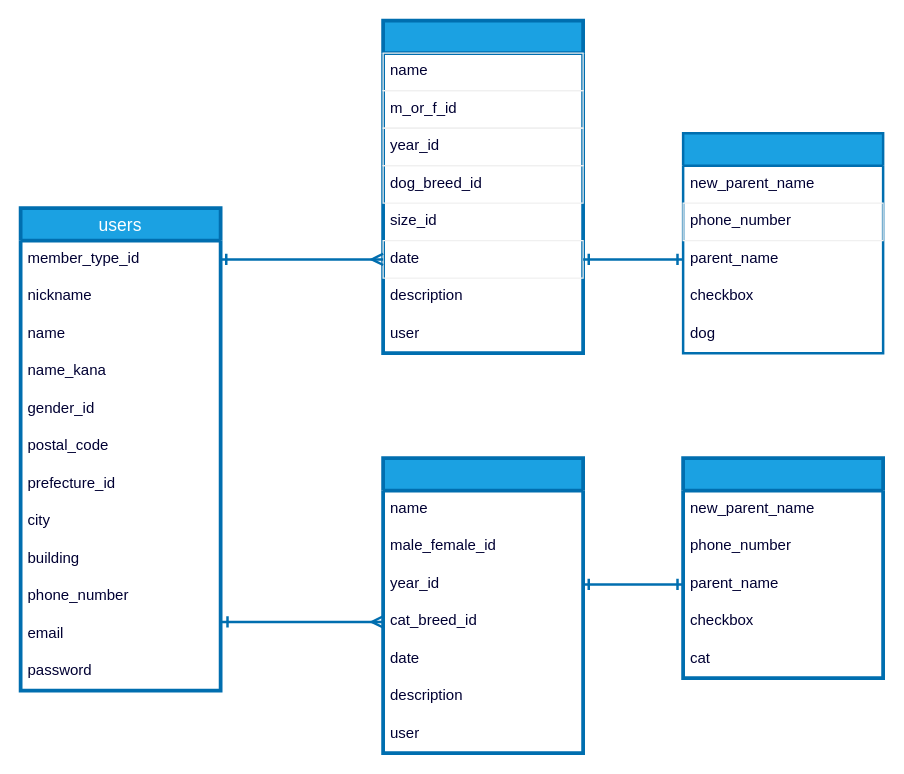
This 904x774 diagram has some shape labels left out. Each missing label, with the box of its shape:
cat_records: (681, 456, 884, 679)
cats: (381, 456, 584, 754)
dog_records: (681, 131, 884, 354)
dogs: (381, 18, 584, 354)
